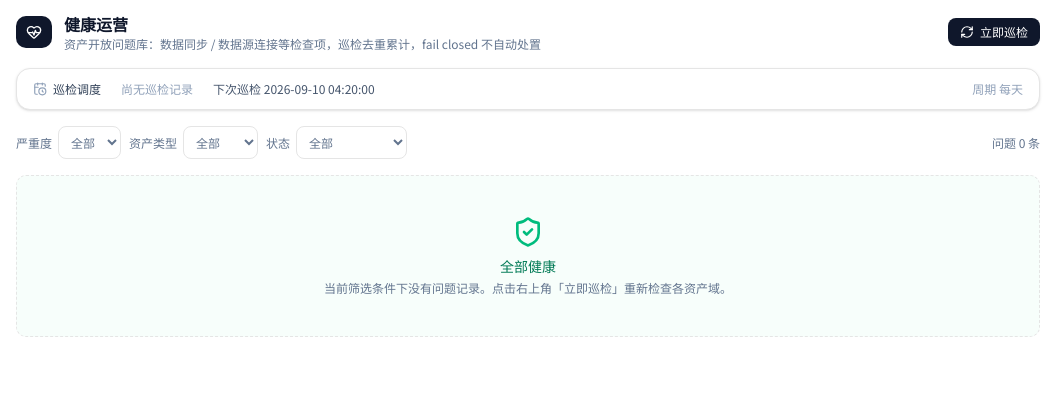
Scenario: OpsPage 健康运营页 › 巡检被并发执行抢占时展示 409 错误码
Expected: the element with test id "ops-empty" is shown, [16, 175, 1040, 337]
Click the button with test id "ops-inspect-button". click: (994, 32)
box: [948, 18, 1040, 46]
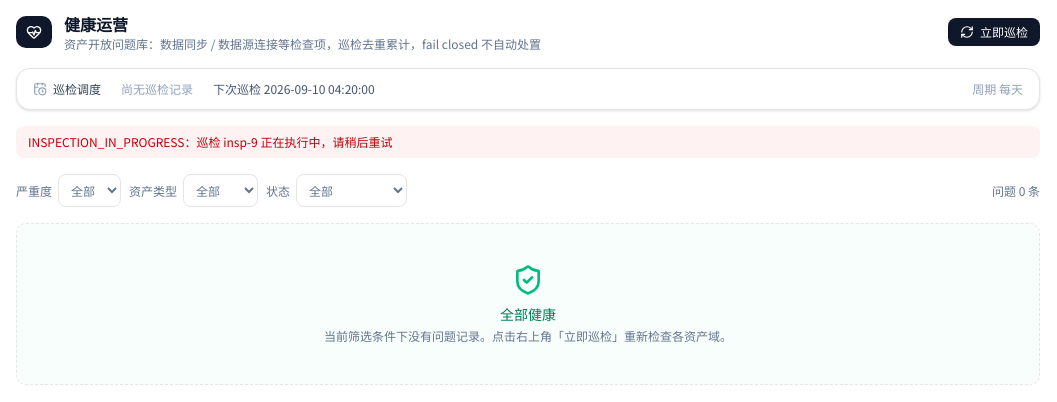
Result: the text "INSPECTION_IN_PROGRESS：巡检 insp-9 正在执行中，请稍后重试" is shown at [16, 126, 1040, 158]
Result: the text with test id "ops-error" reads "INSPECTION_IN_PROGRESS：巡检 insp-9 正在执行中，请稍后重试" at [28, 133, 392, 150]
